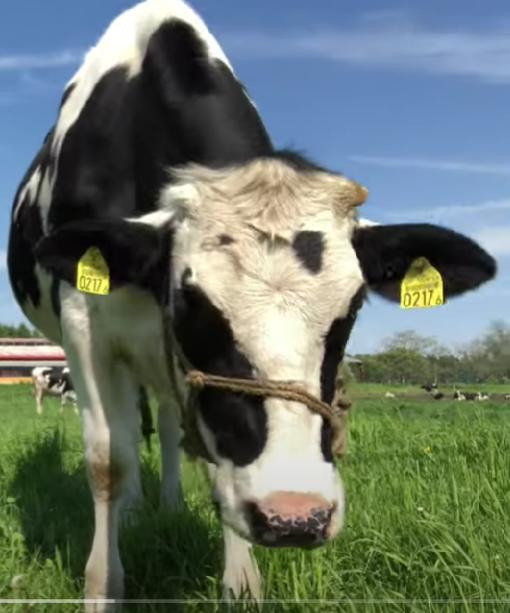cow: (5, 0, 498, 613), (29, 362, 81, 418)
